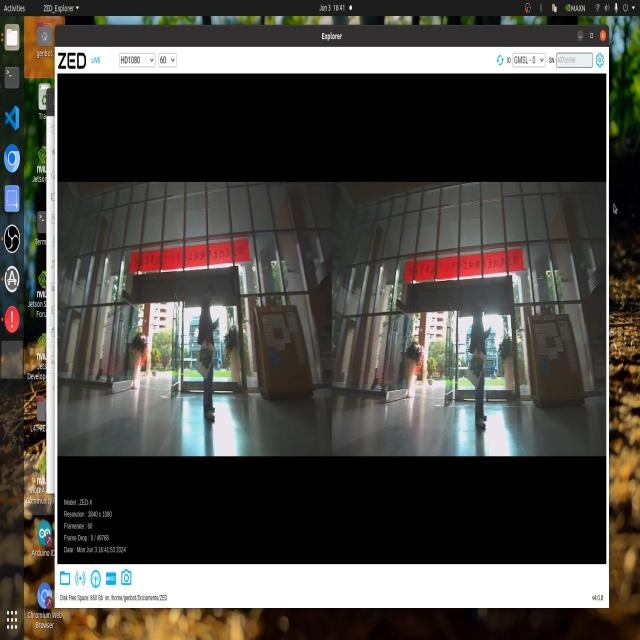green: (195, 343, 220, 372), (468, 352, 486, 384)
